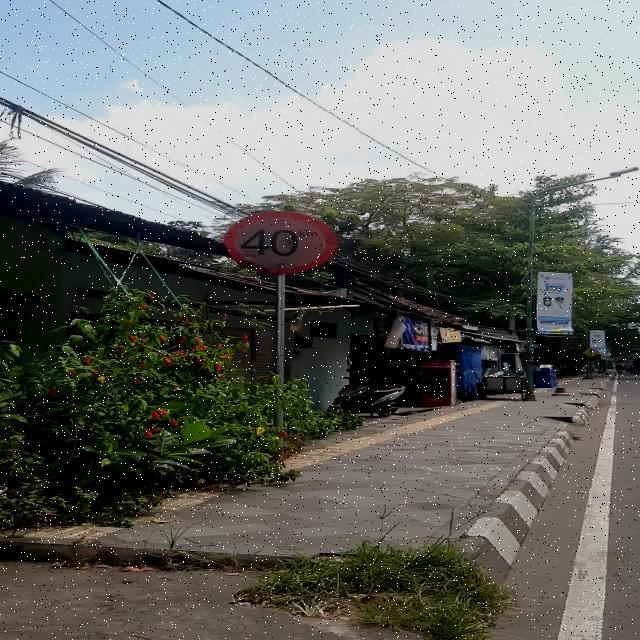Kecepatan Maks. 40 km: (224, 211, 336, 274)
